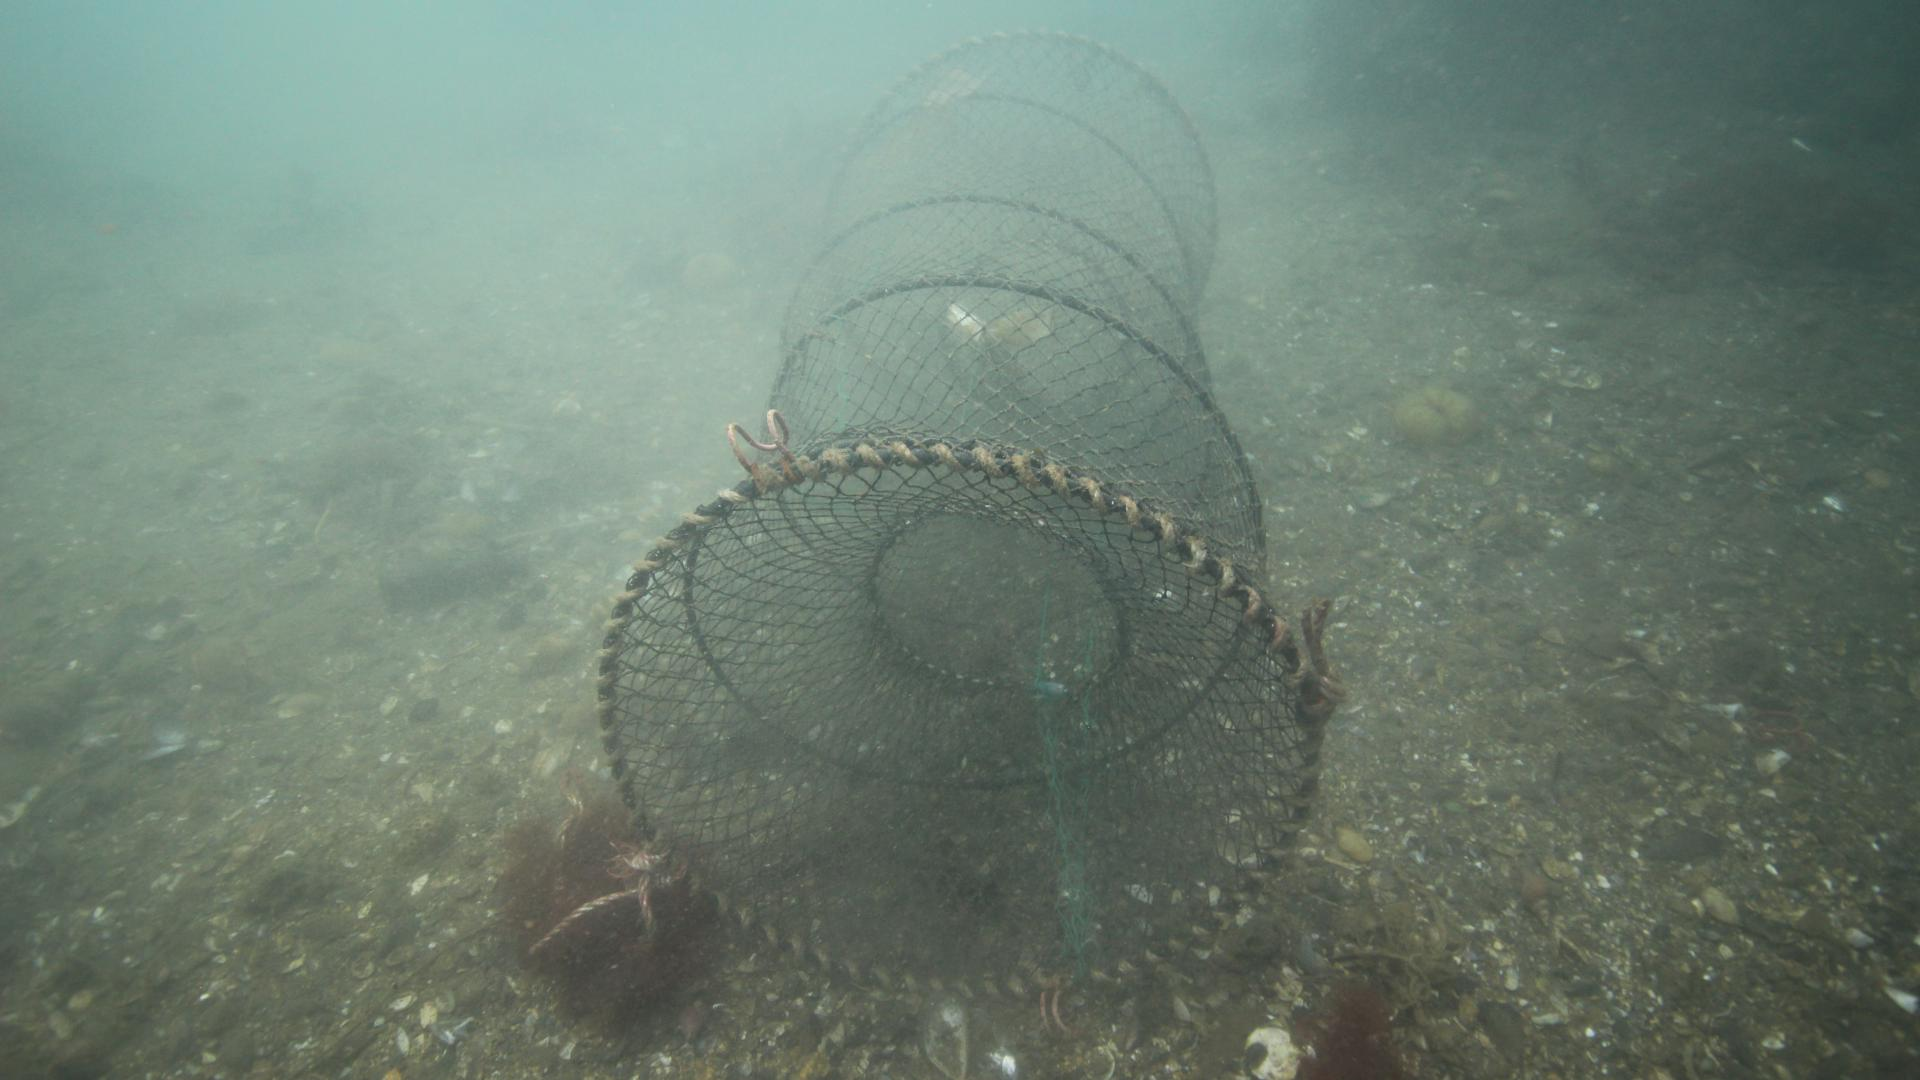spring fish trap: (593, 29, 1331, 1007)
